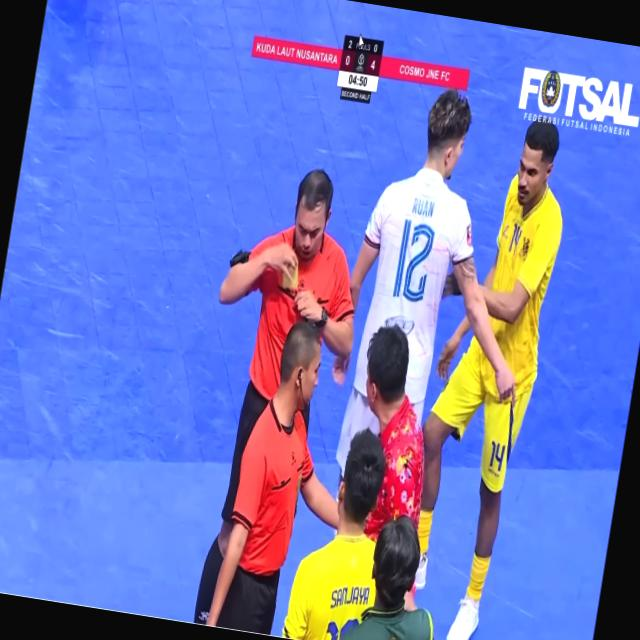referee: (195, 170, 353, 623), (208, 322, 338, 634)
